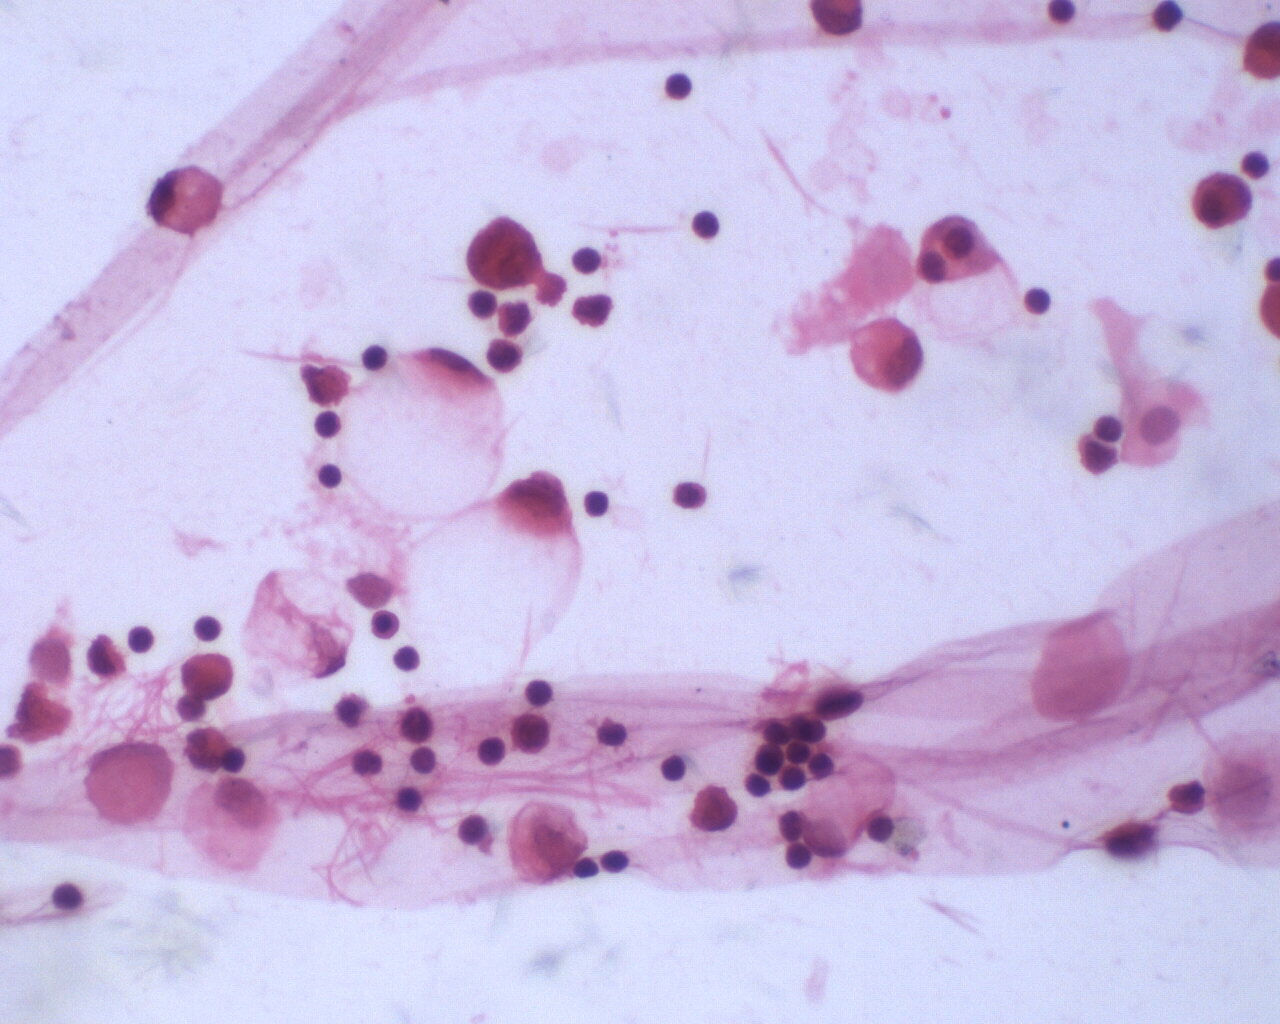ab: (1188, 166, 1257, 239)
histo: (338, 342, 505, 523), (145, 162, 235, 245)
lymph: (657, 65, 700, 109), (518, 671, 563, 711), (688, 206, 730, 245), (388, 642, 426, 680), (1019, 281, 1058, 319), (469, 732, 510, 769), (187, 607, 226, 645), (119, 618, 155, 658), (572, 238, 606, 279), (354, 338, 390, 376), (581, 486, 619, 520), (654, 750, 693, 783)
meso: (846, 317, 927, 397)
